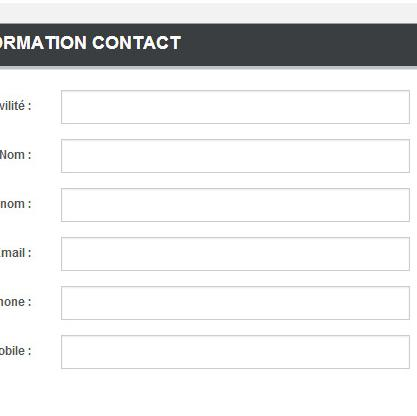field: (60, 284, 412, 321), (60, 89, 412, 125), (60, 185, 412, 221), (59, 138, 411, 174), (60, 334, 409, 370), (59, 237, 411, 271)
